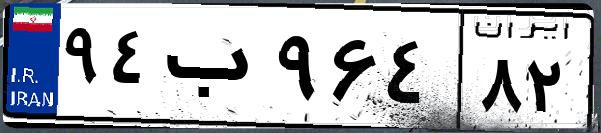2: (525, 38, 570, 115)
4: (385, 28, 445, 110), (110, 28, 158, 98)
6: (330, 28, 385, 110)
8: (475, 38, 525, 113)
9: (270, 28, 330, 110), (57, 26, 110, 100)
ب: (158, 20, 270, 120)
